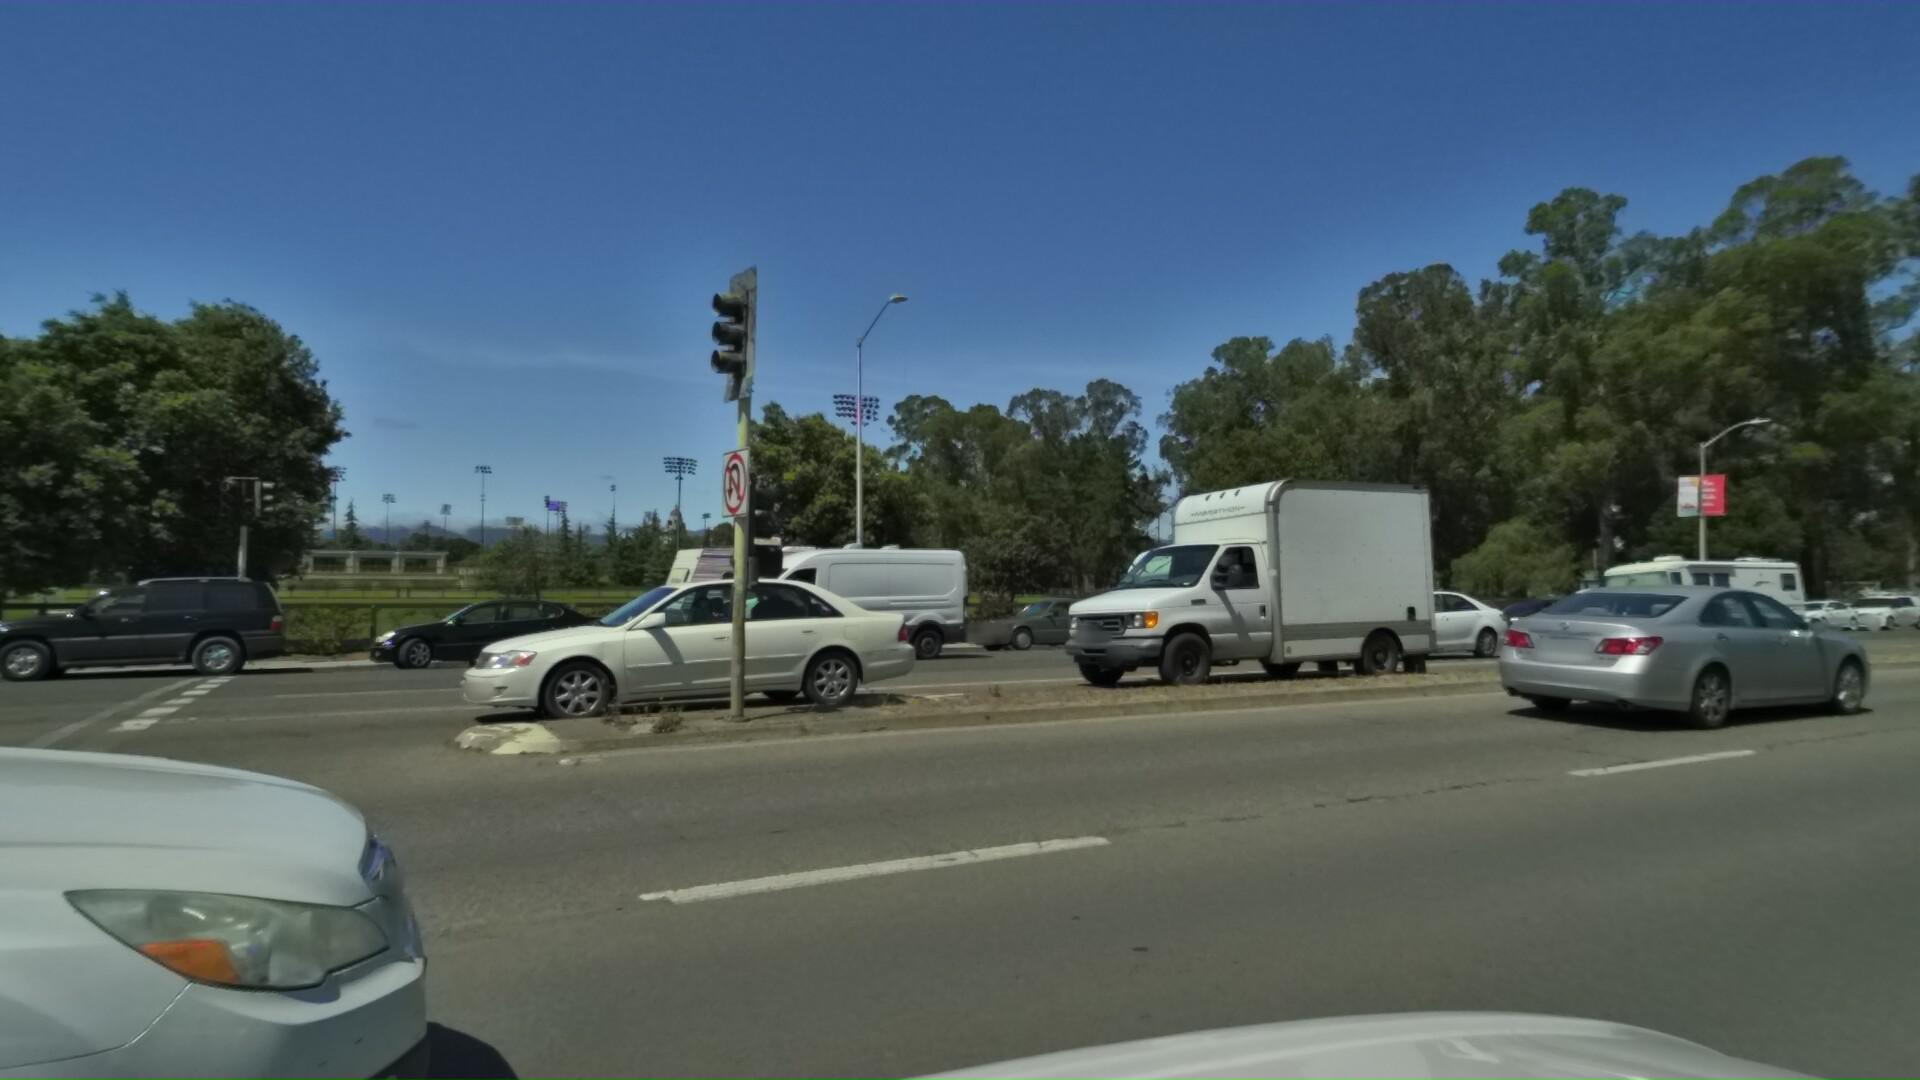car: (390, 566, 886, 746), (1473, 578, 1902, 744), (670, 538, 928, 659), (1470, 578, 1713, 676), (1237, 575, 1468, 671), (330, 596, 566, 675), (942, 587, 1105, 659), (1338, 601, 1476, 649), (1453, 601, 1578, 646), (1818, 583, 1916, 630), (1749, 600, 1853, 638), (1905, 585, 1920, 626)
other_vehicle: (596, 521, 940, 669), (1077, 531, 1365, 655), (1567, 543, 1811, 644)
truck: (1004, 454, 1425, 705)
